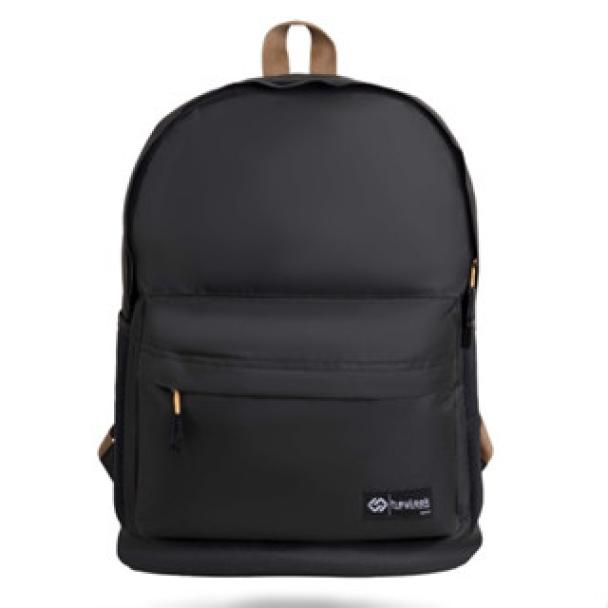Tas: (112, 77, 481, 570)
